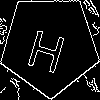H: (24, 20, 70, 74)
